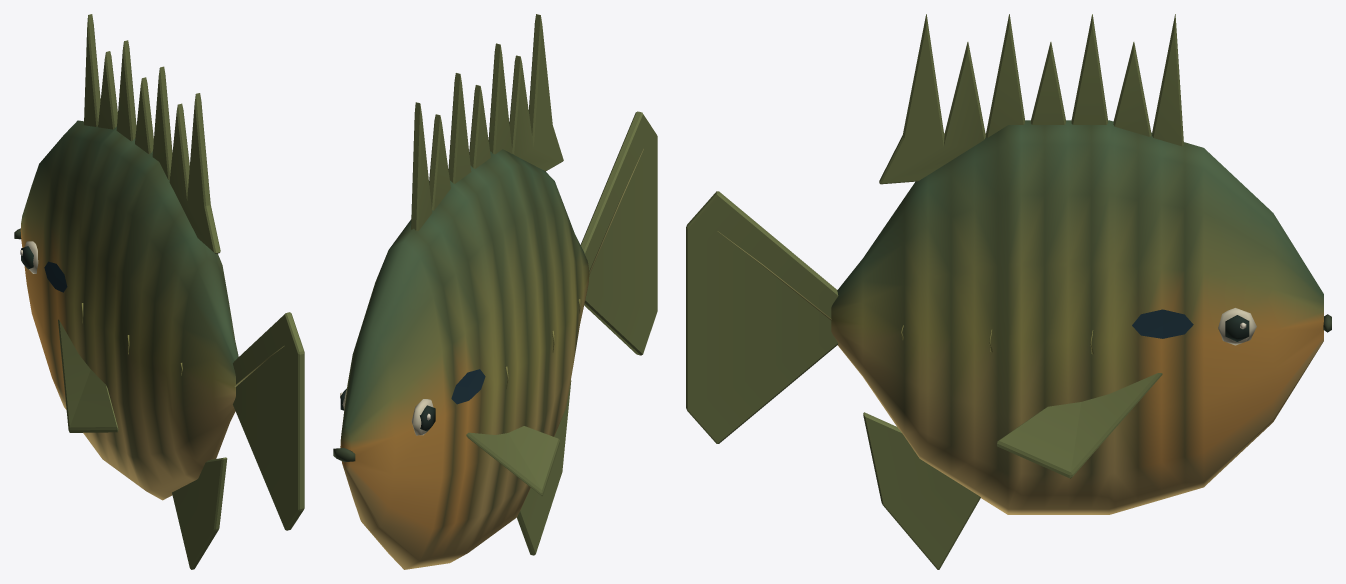
File: fish_bluegill.glb
The picture shows the model from 3 angles, left to right: view 1: azimuth 30°, elevation 25°; view 2: azimuth 150°, elevation 25°; view 3: azimuth 270°, elevation 25°; orthographic projection. The views are drawn at different scales.
Bounding box in the file's own units: 0.0491 × 0.1704 × 0.18.
